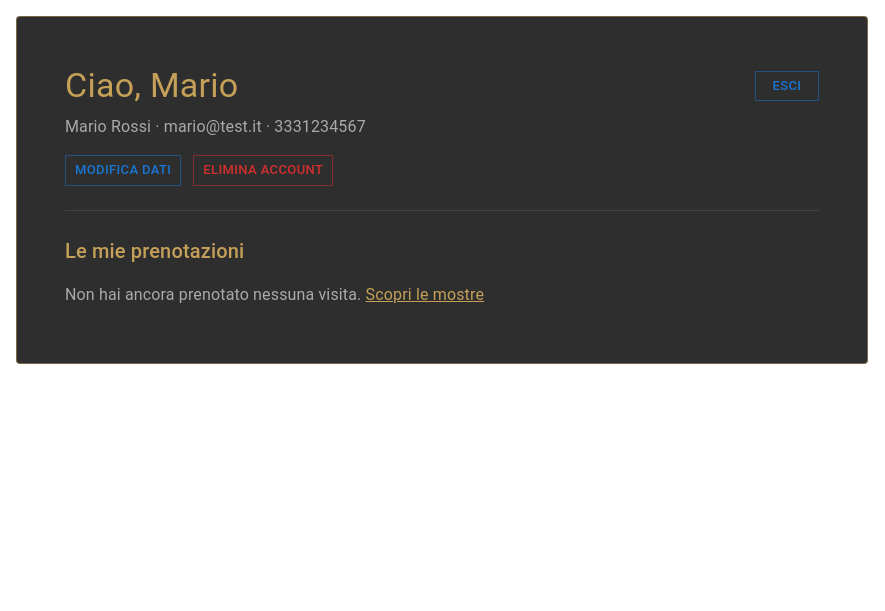
Test: AreaPersonale: gestione dell'account › con la password errata resta collegato e mostra l'errore
Click the button "Elimina account" at point(263, 170), box [193,155,333,186]
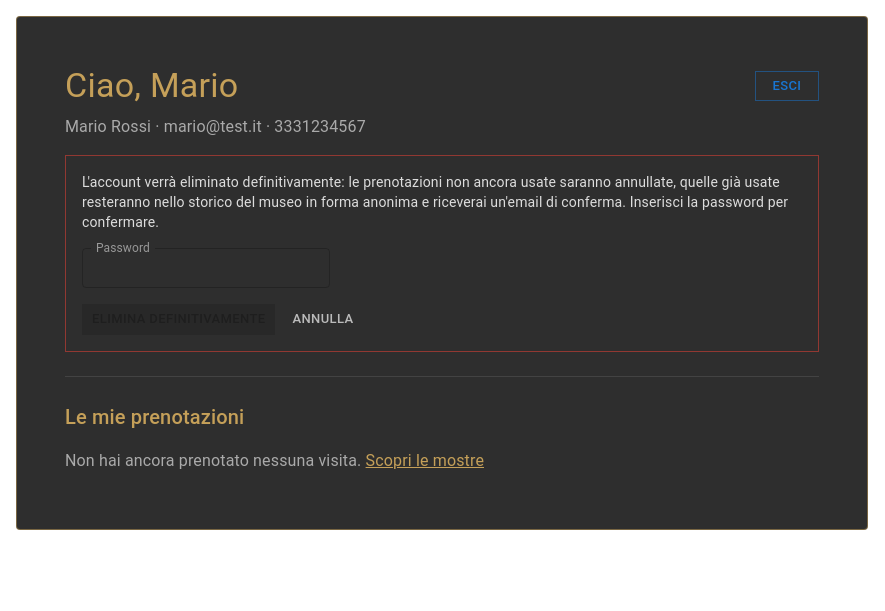
Type "Sbagliata1" into the password field labelled "Password" at point(206, 268), box [82,248,330,288]
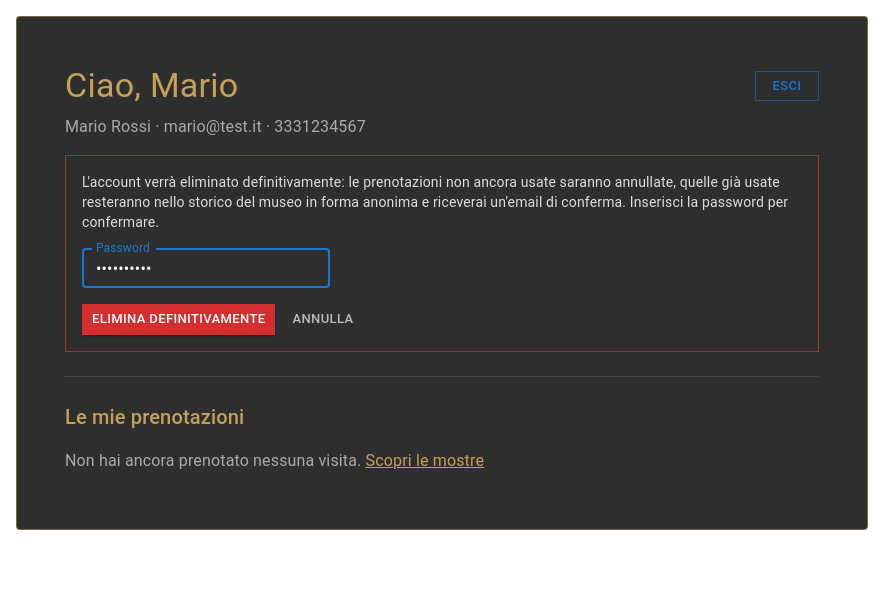
Click the button "ELIMINA DEFINITIVAMENTE" at point(179, 319), box [82,304,276,335]
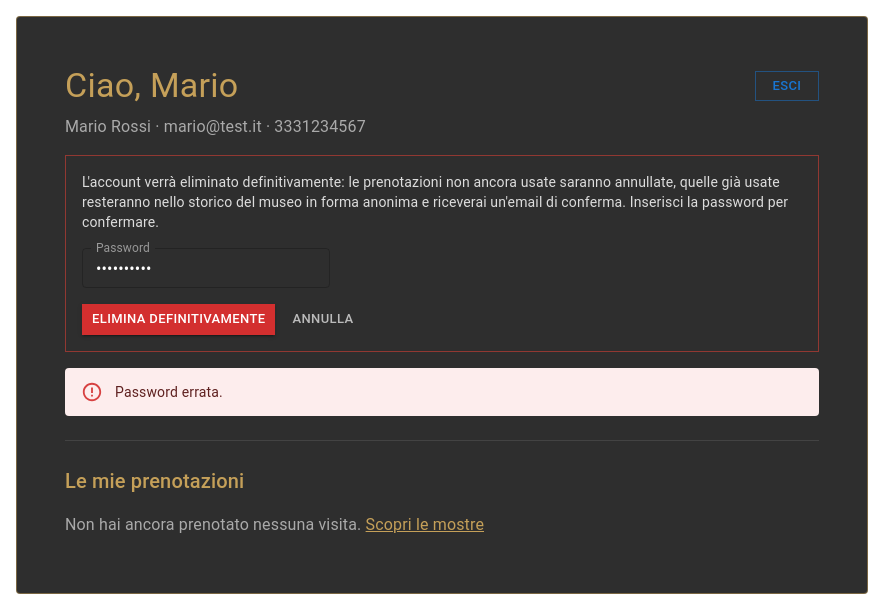
Expected: the text "Password errata." is shown, [115,384,223,400]
